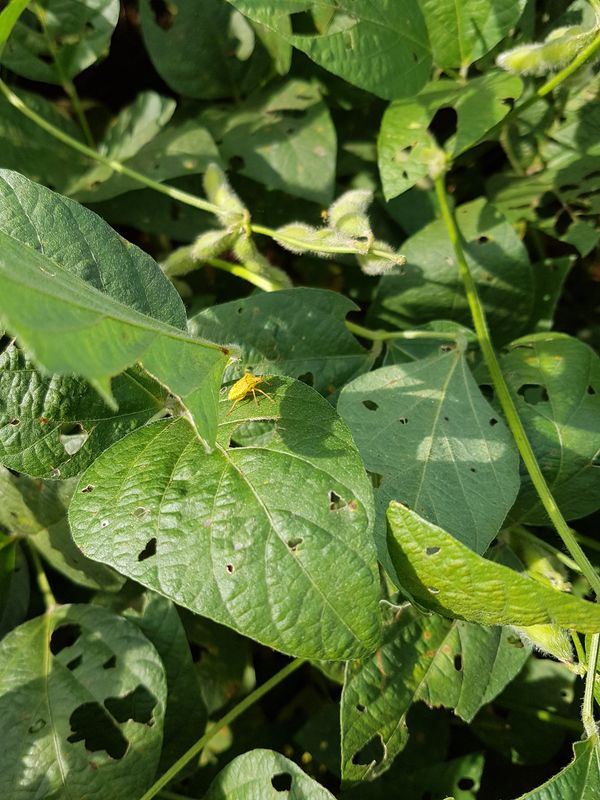Euschistus_heros_ninfa: (216, 363, 280, 420)
